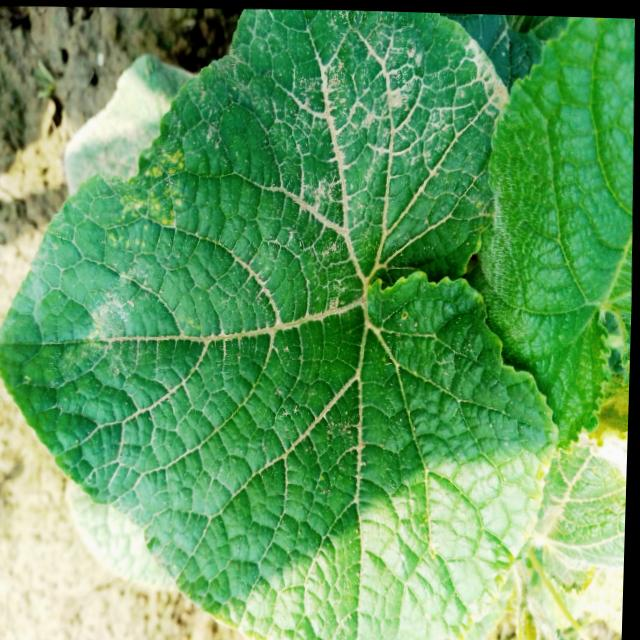Fresh-Leaf: (0, 59, 559, 640), (471, 17, 633, 450)
